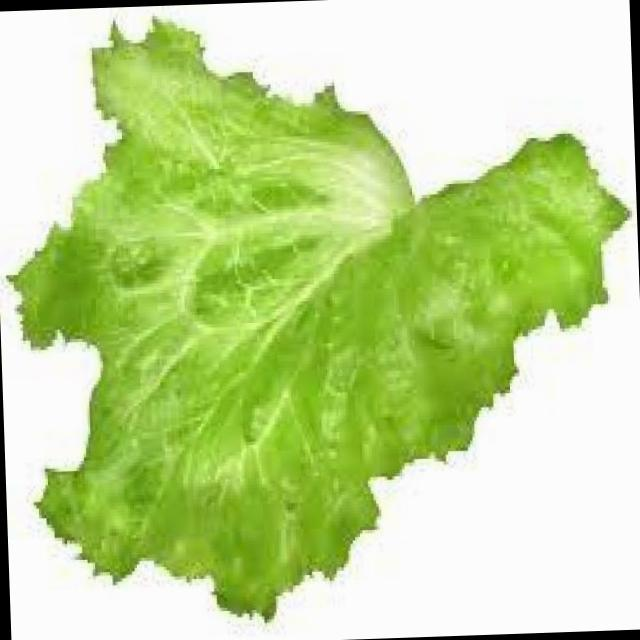Lettuce-Ready-to-Harvest: (15, 22, 624, 615)
